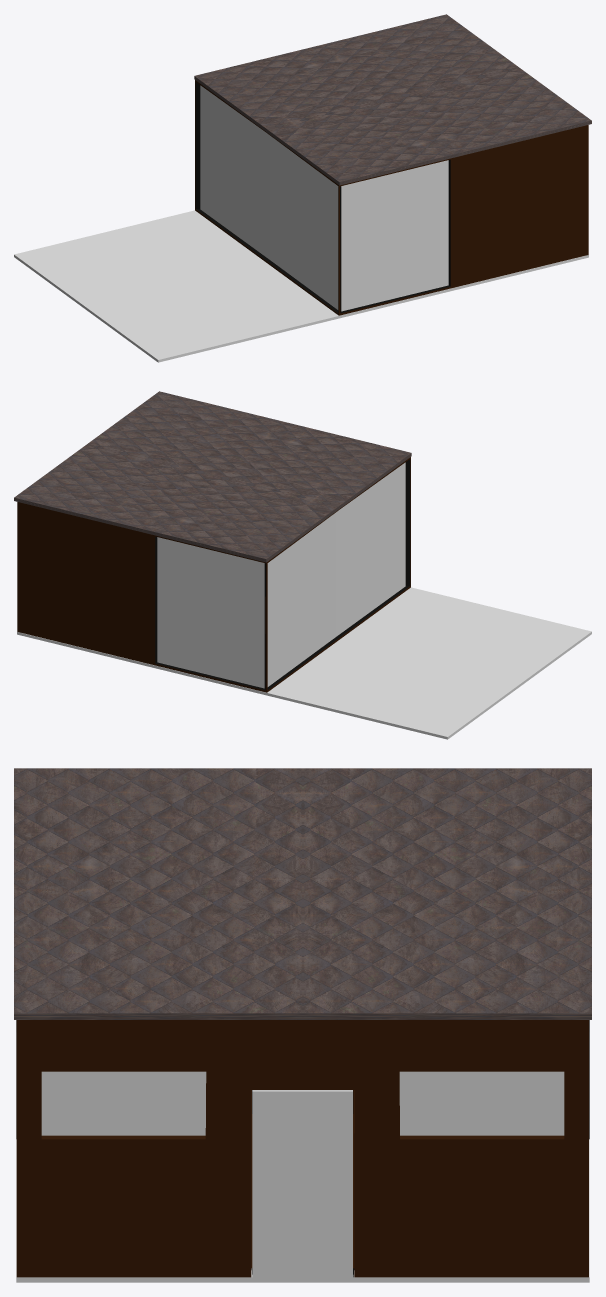
Rendered from house.fbx.
3 renders of one model, top to bottom at view 1: azimuth 30°, elevation 25°; view 2: azimuth 150°, elevation 25°; view 3: azimuth 270°, elevation 25°, orthographic. The views are drawn at different scales.
Visible parts, largest first — view 1: Roof, Windows, Ground, Walls, WindowsFrame; view 2: Roof, Windows, Ground, Walls, WindowsFrame; view 3: Roof, Walls, Windows, Door, Ground, WindowsFrame.
Boxes of the visible parts, bbox=[...] form: Roof: bbox=[194, 14, 591, 185]; Windows: bbox=[200, 85, 448, 311]; Ground: bbox=[14, 210, 588, 362]; Walls: bbox=[195, 80, 588, 315]; WindowsFrame: bbox=[195, 82, 450, 313]; Roof: bbox=[14, 391, 411, 562]; Windows: bbox=[157, 462, 405, 688]; Ground: bbox=[17, 587, 591, 739]; Walls: bbox=[17, 457, 410, 692]; WindowsFrame: bbox=[155, 459, 410, 690]; Roof: bbox=[14, 768, 591, 1019]; Walls: bbox=[16, 1020, 588, 1277]; Windows: bbox=[41, 1071, 564, 1135]; Door: bbox=[252, 1090, 352, 1277]; Ground: bbox=[16, 1139, 589, 1282]; WindowsFrame: bbox=[16, 1020, 589, 1139].
Bounding box in the file's own units: 3469 × 1046 × 2015.
